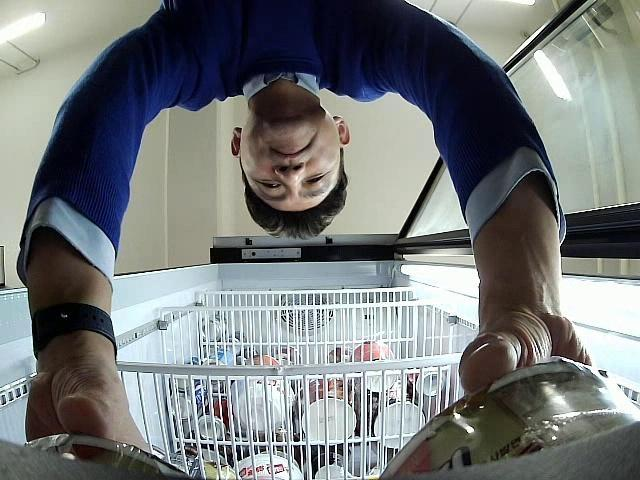03_chapagetti_L: (378, 357, 640, 480)
